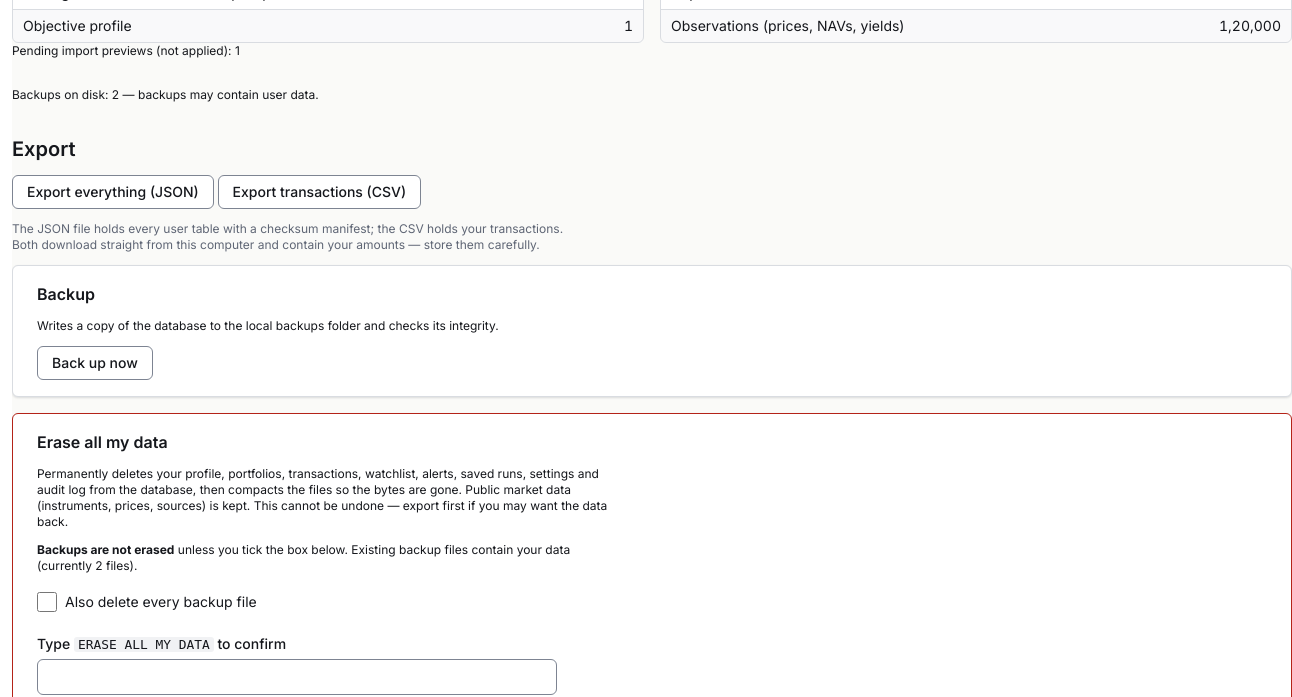
Settings & privacy › backs up and shows the path and integrity
The width and height of the screenshot is (1292, 697).
(page scrolled)
Click the button "Back up now".
click(95, 363)  # box [37,346,153,380]
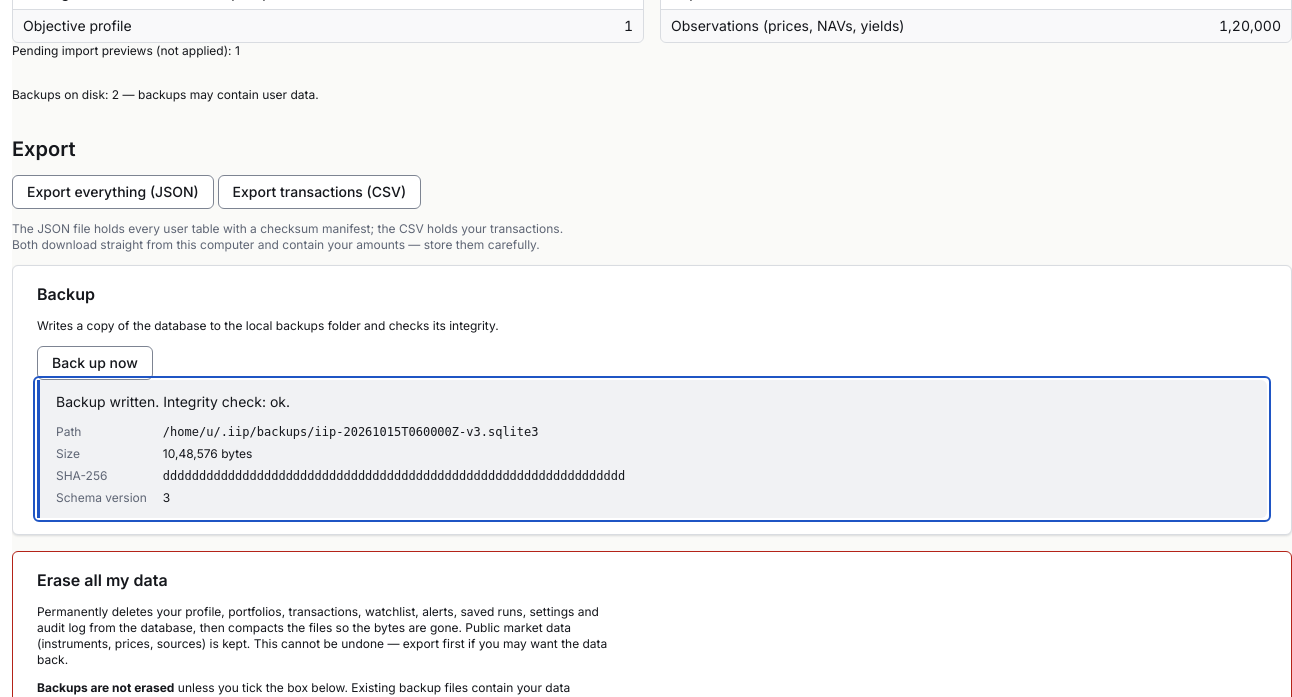
Now the text "Backup written. Integrity check: ok." is shown, box [56,393,290,410]
Now the text "/home/u/.iip/backups/iip-20261015T060000Z-v3.sqlite3" is shown, box [163,425,538,439]
